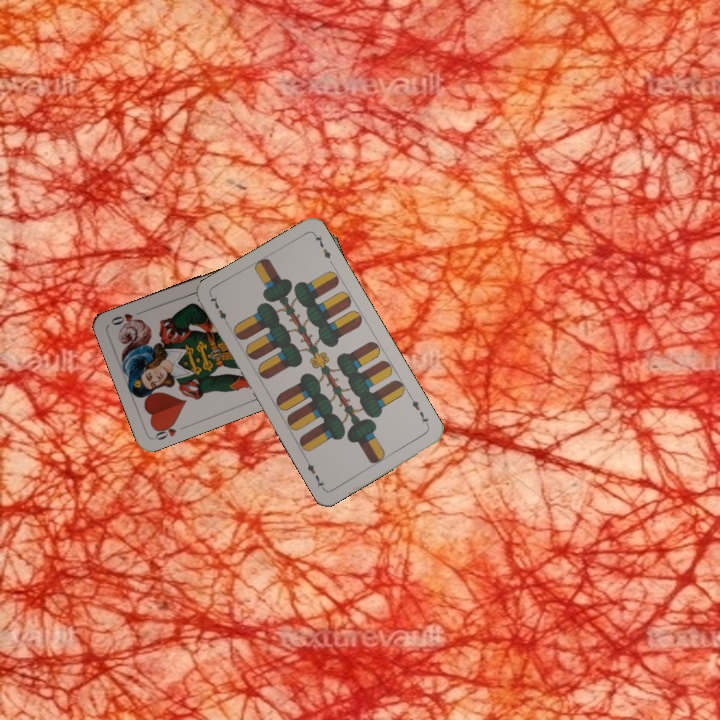E7: (406, 393, 432, 430), (206, 292, 232, 329)
HO: (150, 418, 190, 443)
